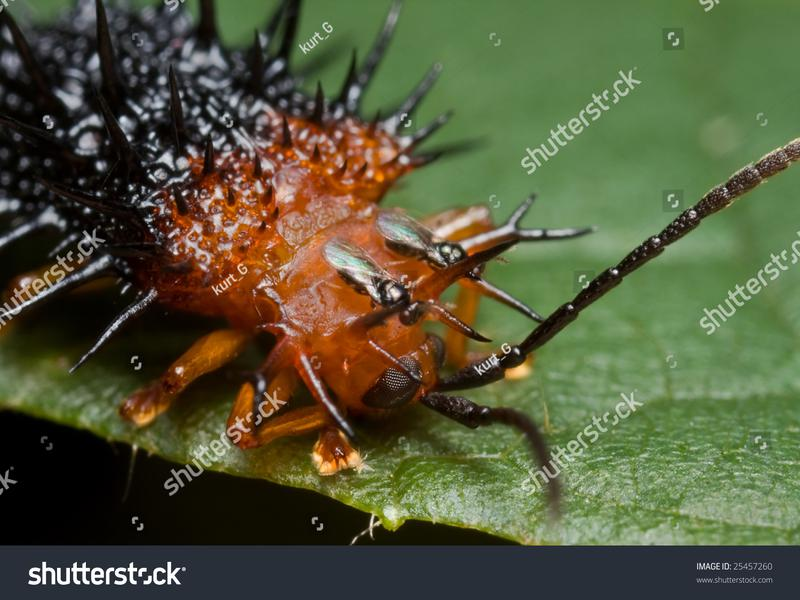Spiny_beetle: (26, 32, 521, 453)
